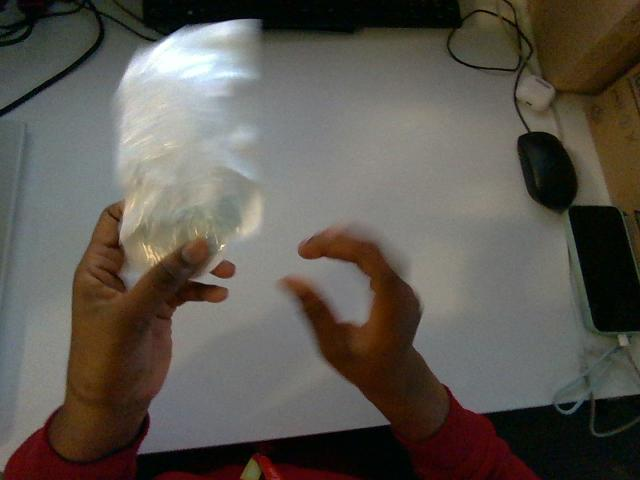gallipot: (116, 20, 262, 276)
